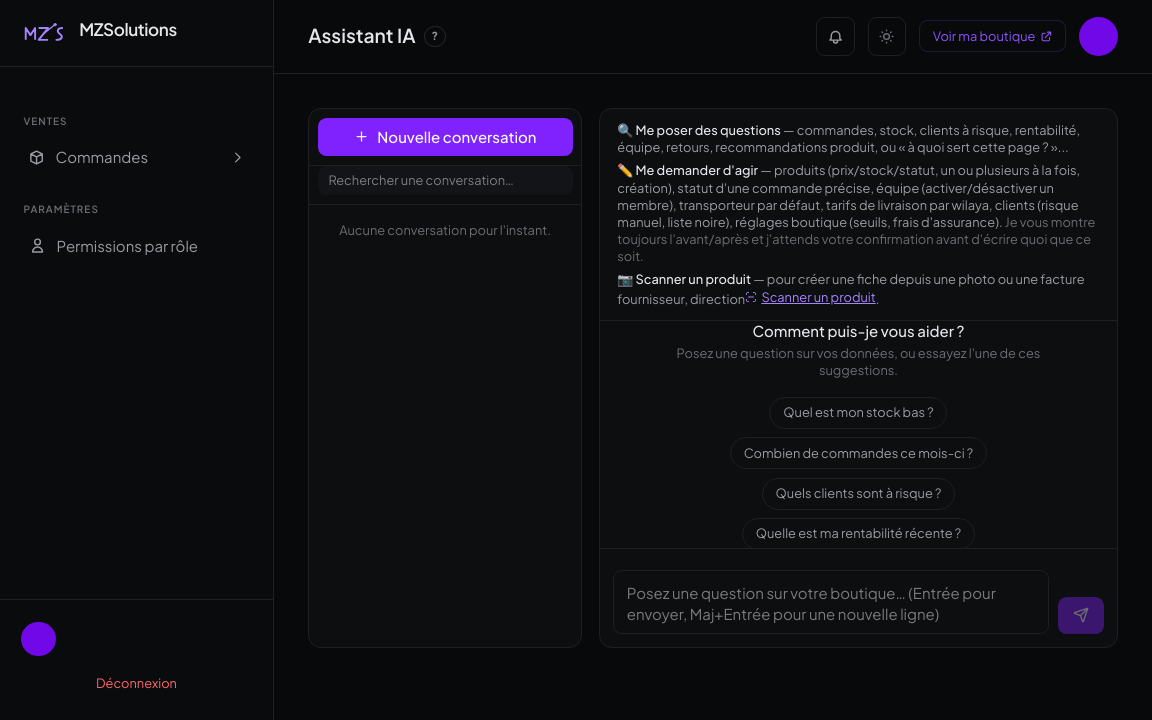
Test: AIAssistantPage › rend le markdown de la réponse (gras)
This screenshot has width=1152, height=720.
(page scrolled)
Step 1. Replace the text in the text box with placeholder "Posez une question" with "stock ?" → [831, 602], box left=613, top=570, right=1050, bottom=634
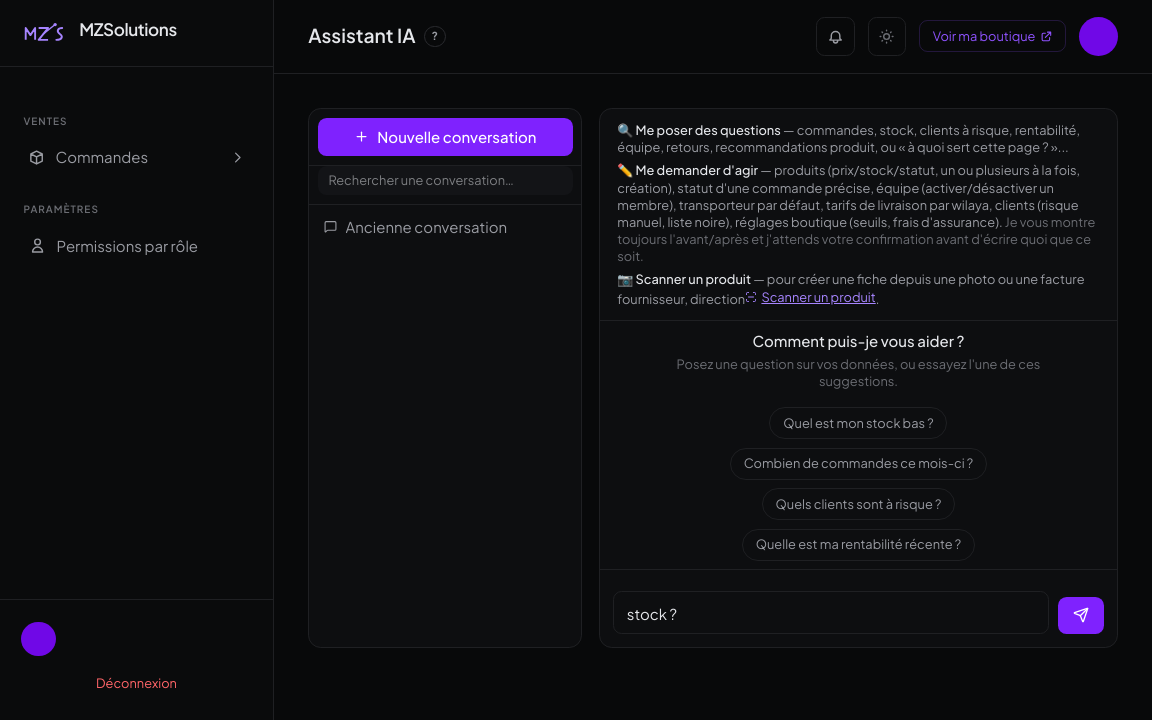
Step 2. Click the button named "envoyer" → [1081, 616], box left=1058, top=597, right=1104, bottom=634
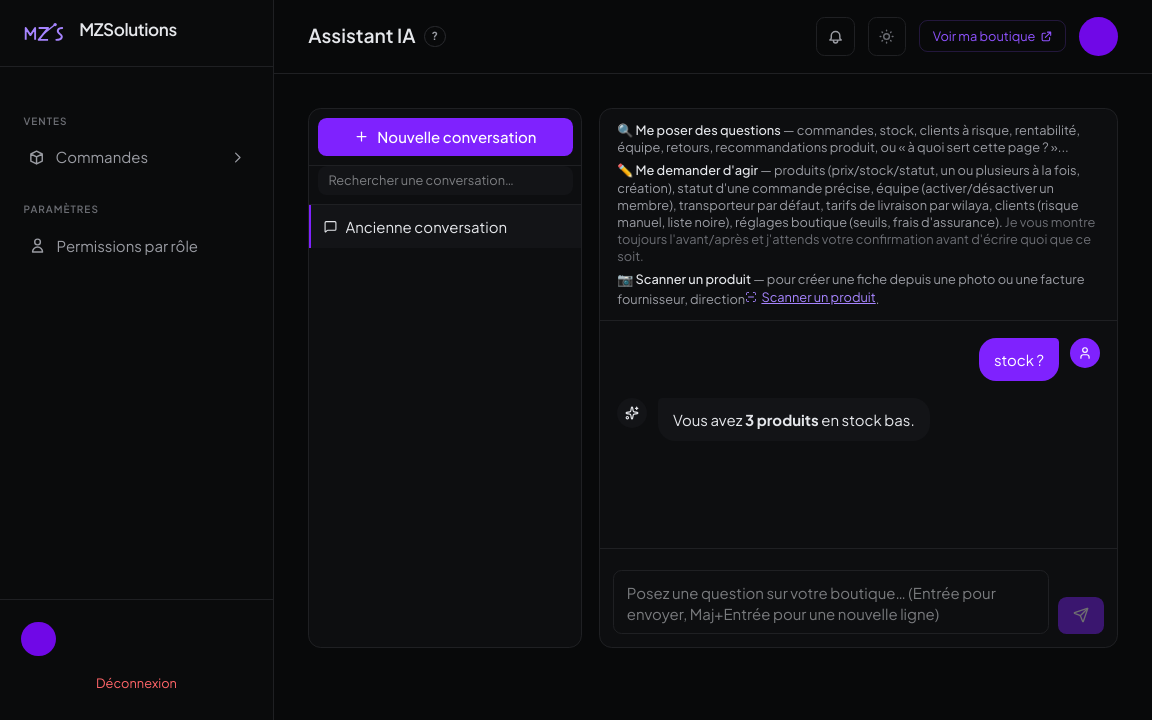
expect the text "3 produits" is shown: met, box left=745, top=410, right=819, bottom=429
